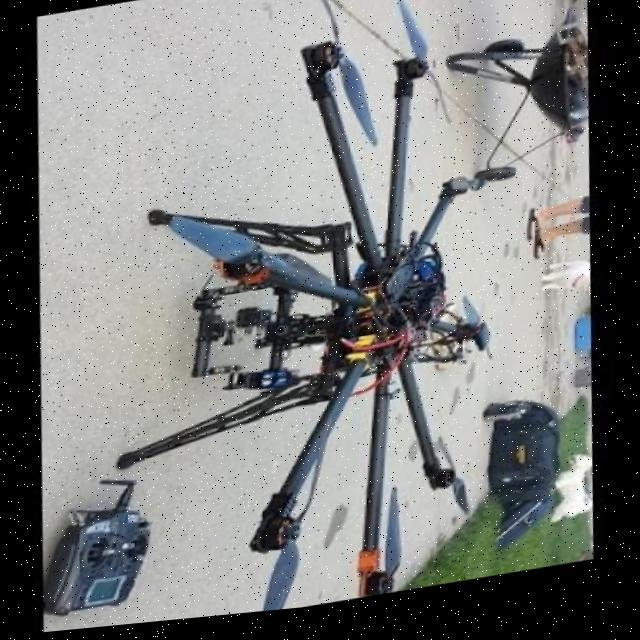drones: (74, 0, 562, 632)
